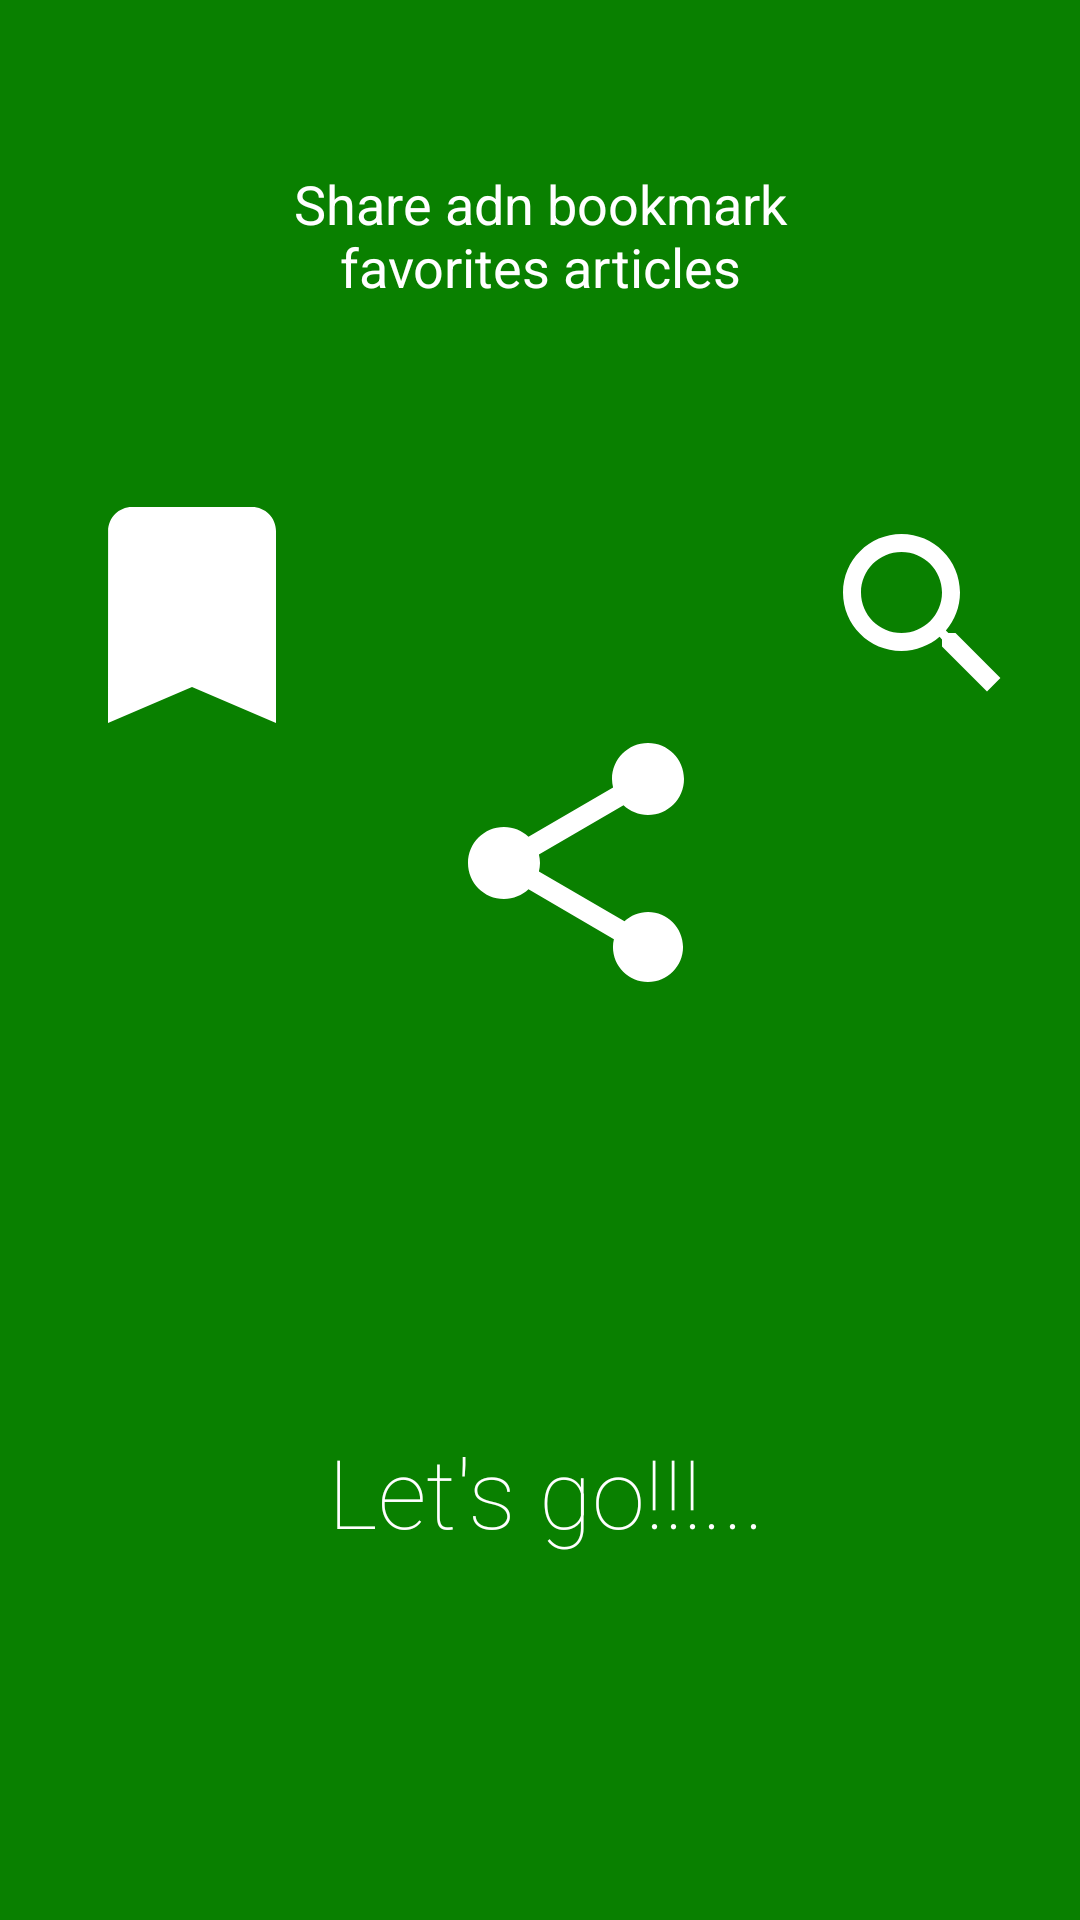

Point at icon controls on the screen. Image size 1080w x 1920h, points as [x,y].
intro bookmark: [192,615]
intro search: [921,613]
intro share: [576,862]
